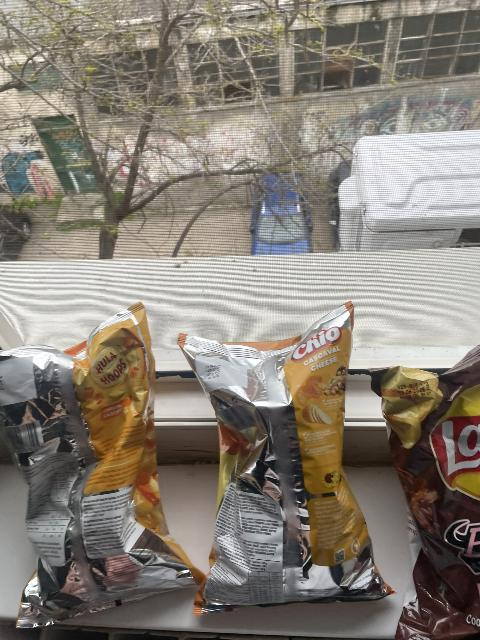Chio Cascaval 125g: (175, 299, 394, 623)
Chio Hula Hoops Cheese 70g: (2, 313, 208, 629)
Lays Beef Grilled Ribs 125g: (359, 342, 480, 640)
